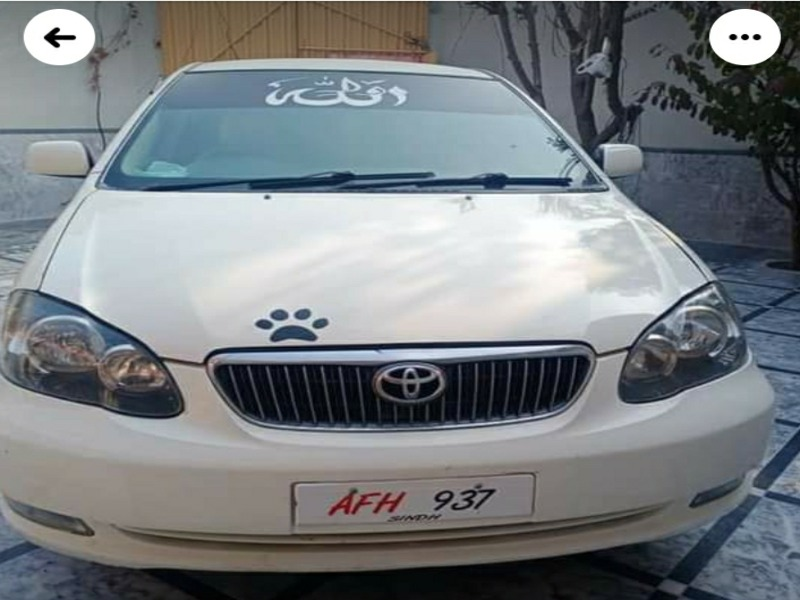License Plate: (289, 472, 540, 533)
